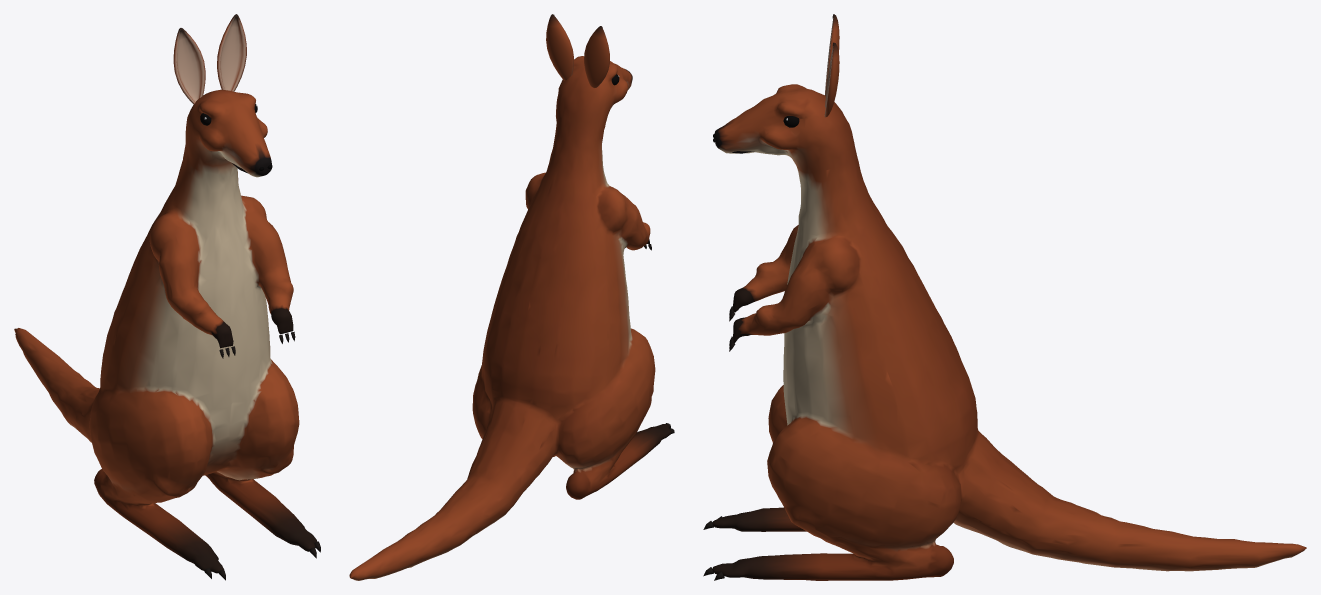
The model's file is Kangaroo.fbx.
3 views of the same model, side by side, from view 1: azimuth 30°, elevation 25°; view 2: azimuth 150°, elevation 25°; view 3: azimuth 270°, elevation 25° (orthographic). The views are drawn at different scales.
Parts seen in each view (by area): view 1: Kangaroo; view 2: Kangaroo; view 3: Kangaroo.
Part boxes in pixels (x1,y1,x2,y2): Kangaroo: (14, 14, 320, 580); Kangaroo: (349, 14, 674, 580); Kangaroo: (703, 14, 1306, 580).
Size of the model in its own units: 0.4779 by 1.39 by 1.43.
